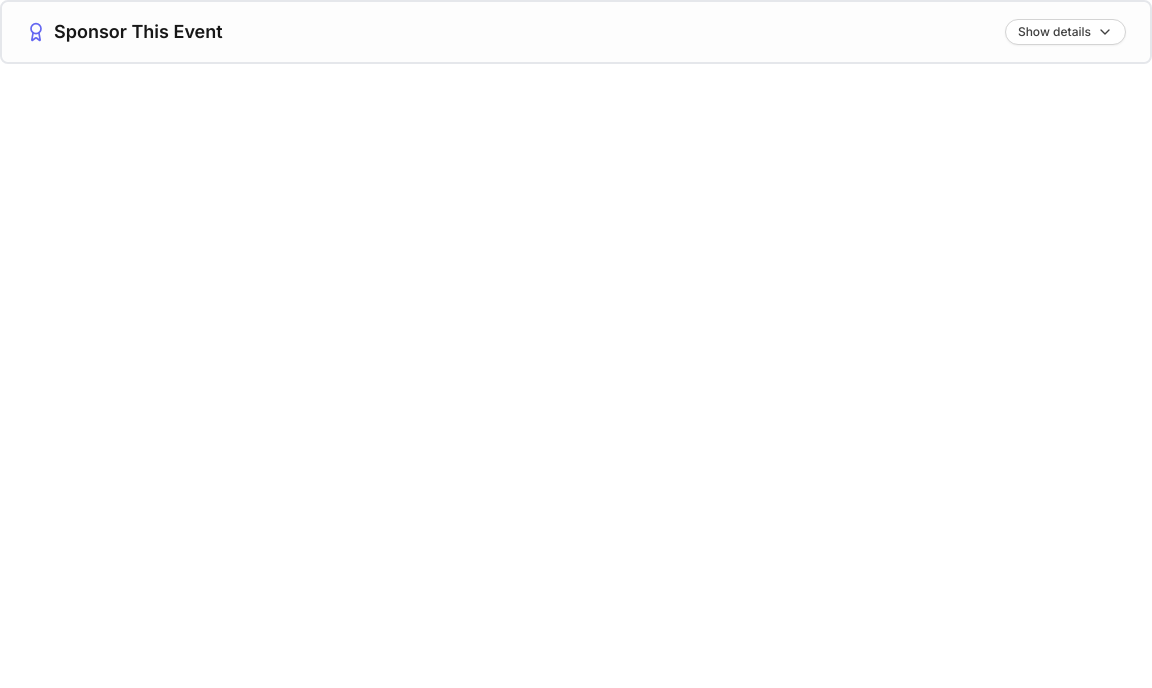
Test: SponsorSection — Phase 6A.157 package integration › reveals the custom-amount form when the expand pill is clicked
Click the heading "Sponsor This Event" at point(138, 32), box [54,21,223,42]
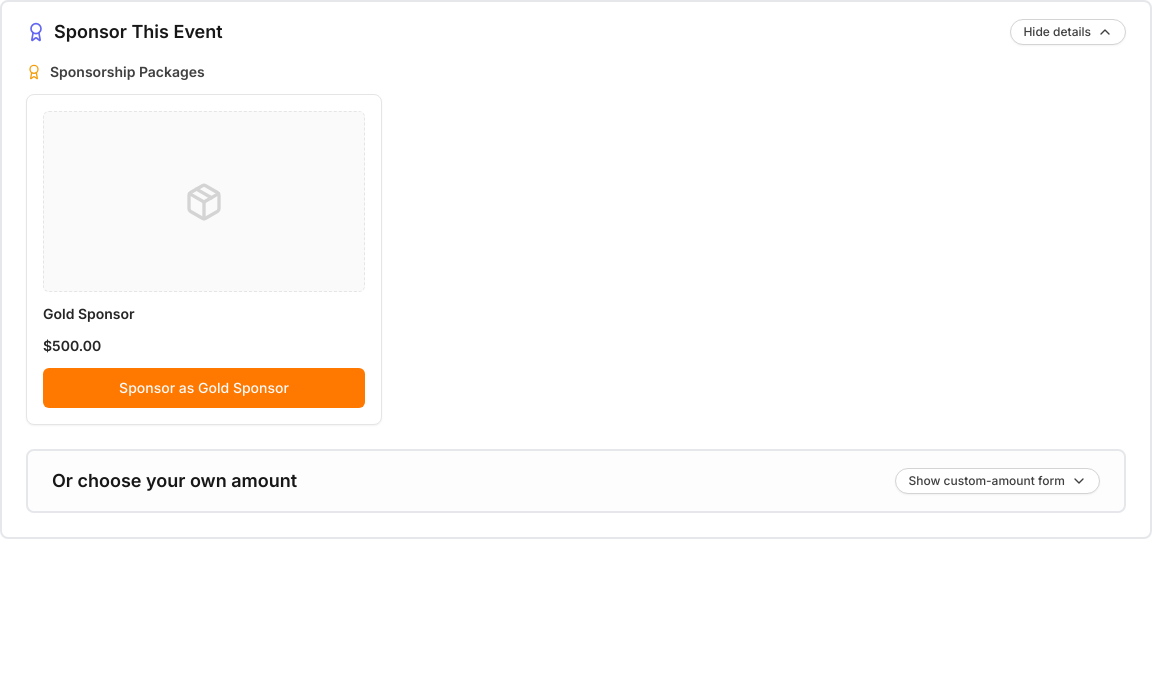
Click the button "Or choose your own amount Show custom-amount form" at point(175, 481), box [28,451,1124,511]
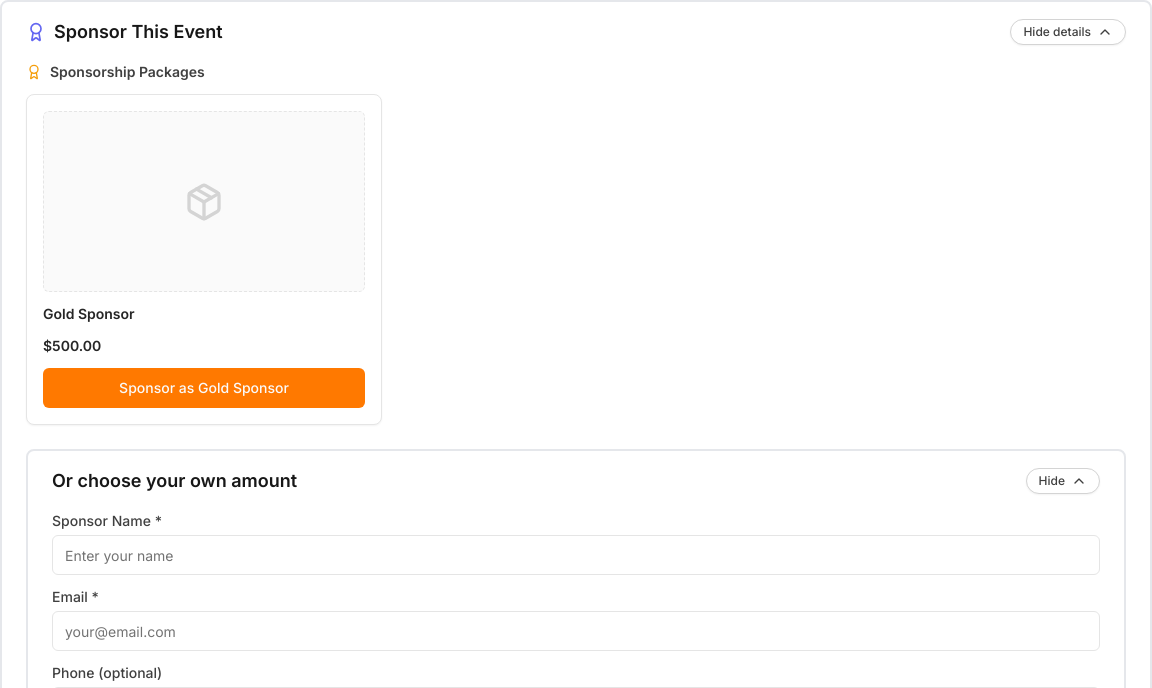
expect the button "Or choose your own amount Hide" is expanded: met, box [28,451,1124,511]
